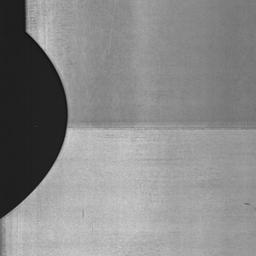Crescent gap: (0, 30, 68, 218)
